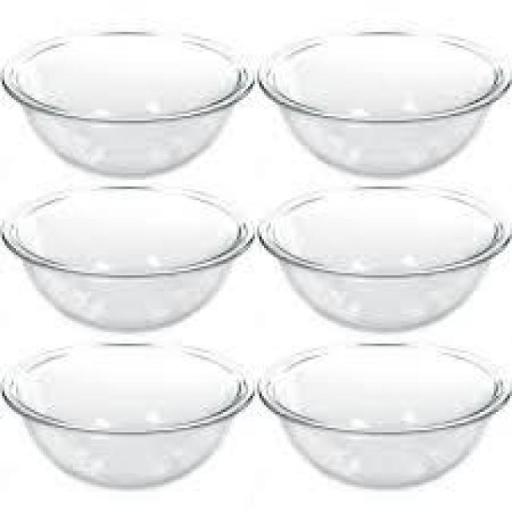glass: (0, 181, 254, 332), (261, 181, 512, 332), (260, 340, 512, 487), (1, 340, 251, 488), (3, 28, 253, 176), (262, 29, 511, 177)
